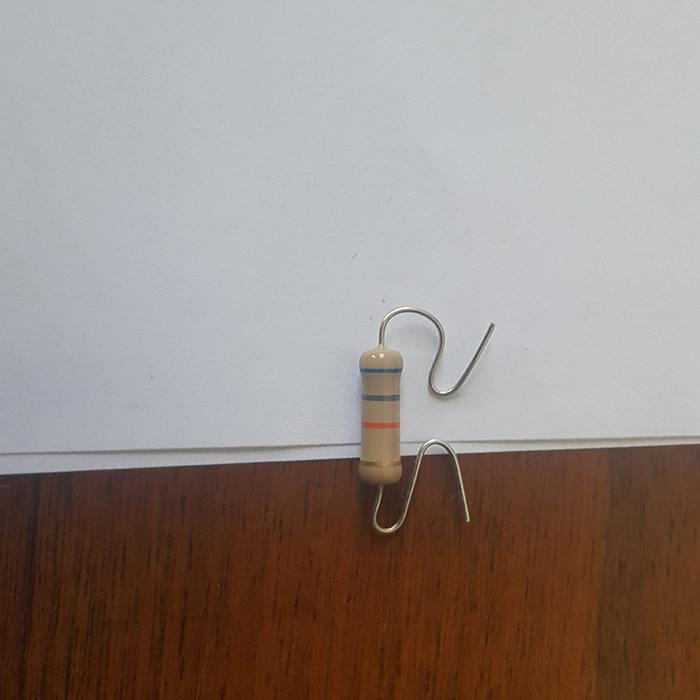resistor: (358, 346, 402, 485)
